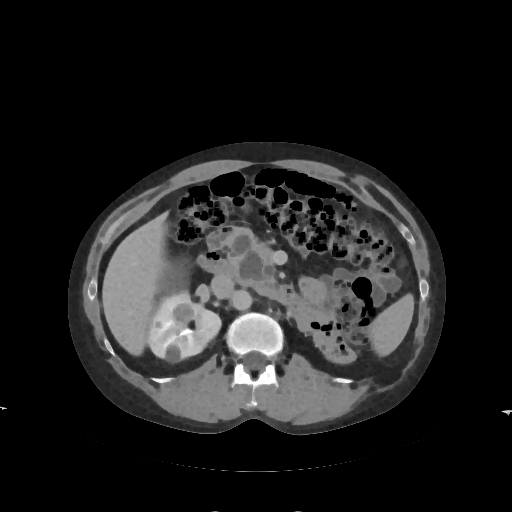Lesion: (174, 300, 194, 326)
